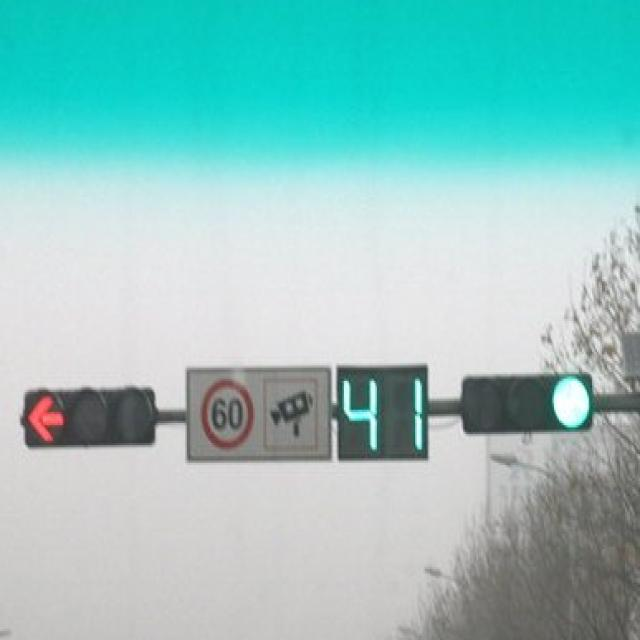Green_light: (460, 378, 601, 434)
